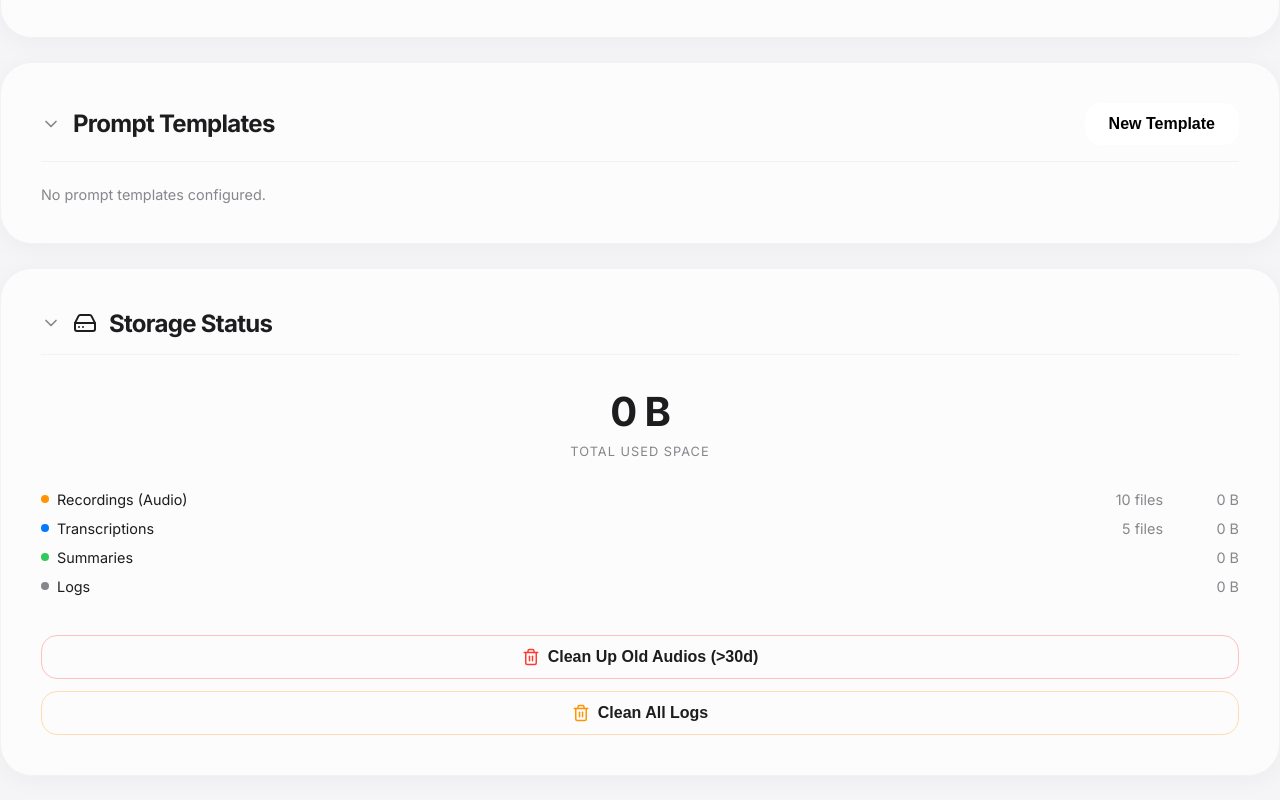
EngineTab › can open cleanup modal
(page scrolled)
Click the button "Clean Up Old Audios (>30d)": [640, 657] box [41,635,1239,679]
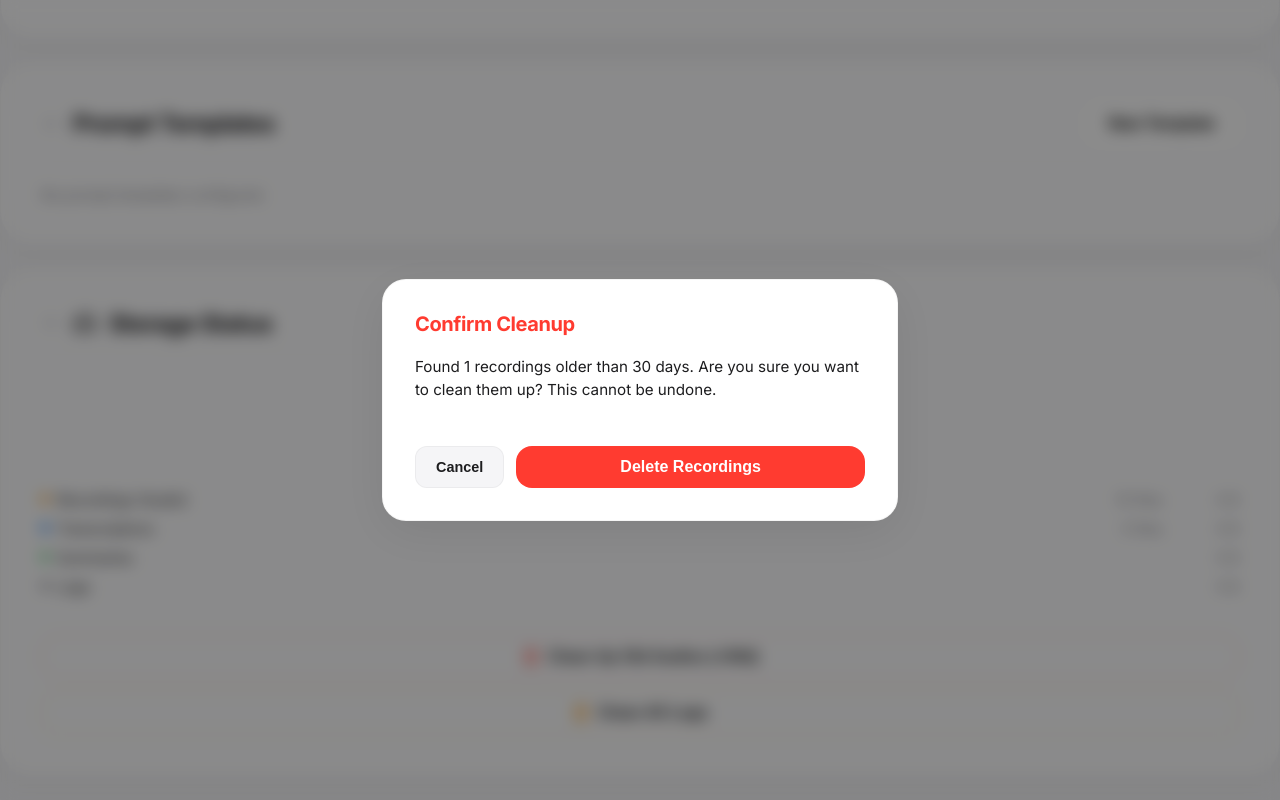
Check: the text "Confirm Cleanup" is shown, box [415,312,575,336]
